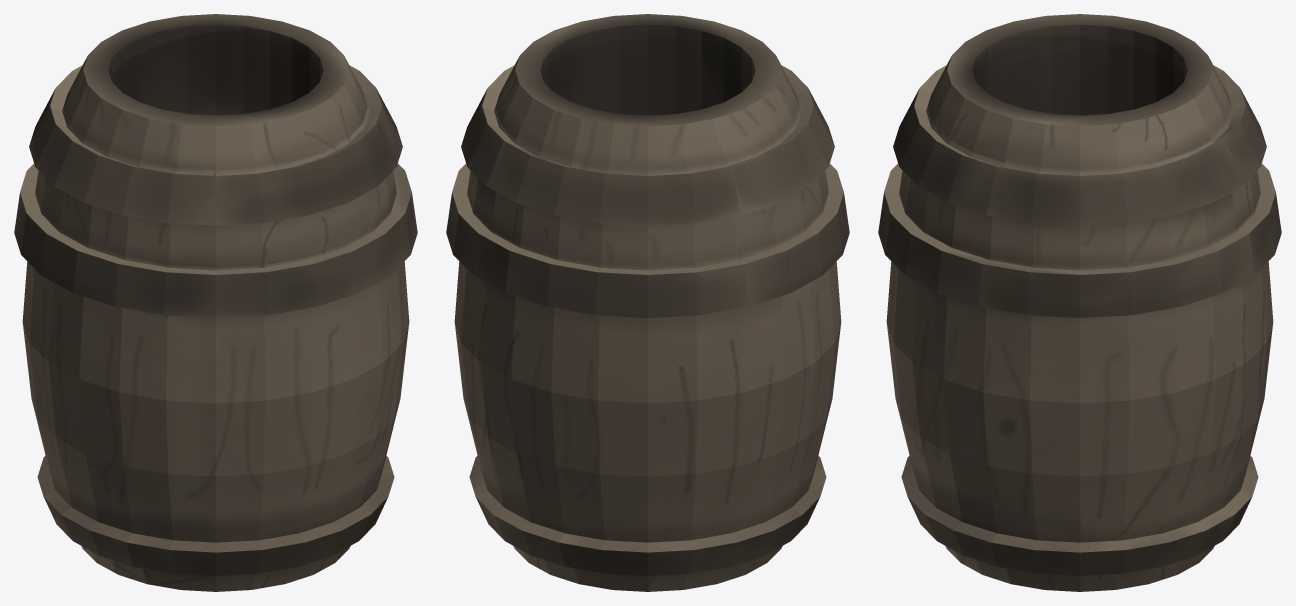
The model's file is barrel.fbx.
3 views of the same model, side by side, from view 1: azimuth 30°, elevation 25°; view 2: azimuth 150°, elevation 25°; view 3: azimuth 270°, elevation 25° (orthographic).
Parts seen in each view (by area): view 1: drum; view 2: drum; view 3: drum.
Part boxes in pixels (left/top/right/bottom): drum: left=14, top=14, right=417, bottom=591; drum: left=446, top=14, right=849, bottom=591; drum: left=878, top=14, right=1281, bottom=591.
Size of the model in its own units: 100 by 100 by 127.
